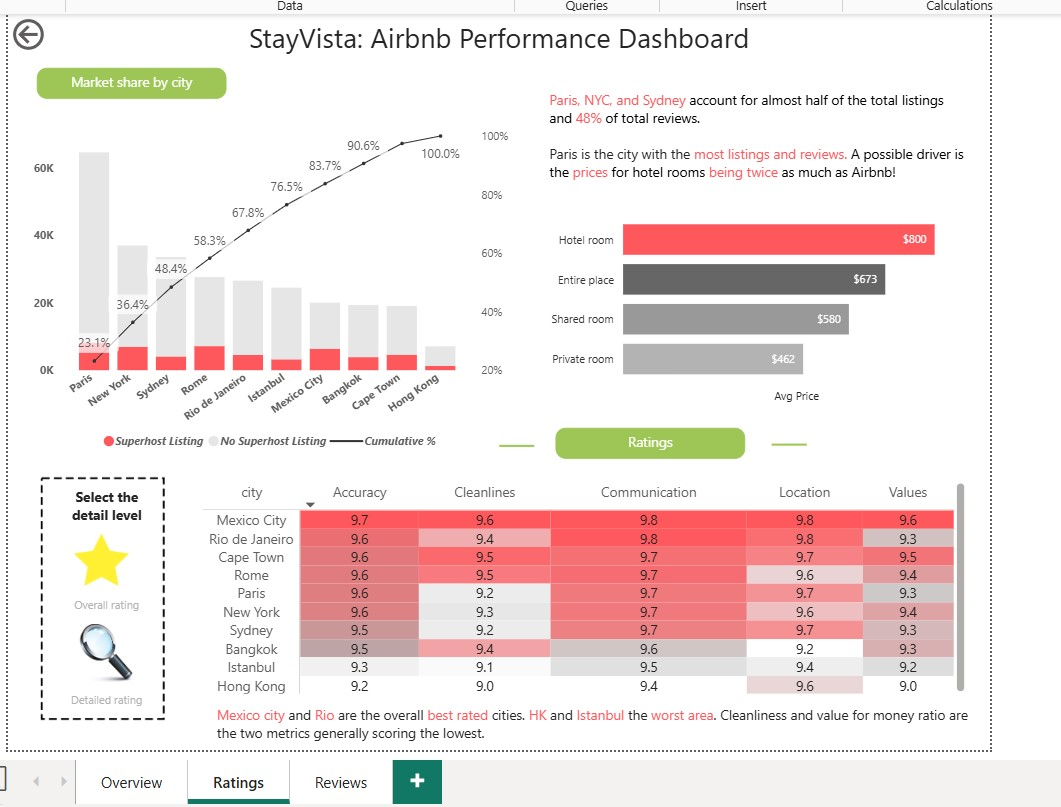

This screenshot's page, from the dashboard's own definition file:
{"tool":"powerbi","page":{"name":"Ratings","canvas":[960,720],"ordinal":1},"visuals":[{"type":"textbox","box":[213.4,0,533.2,52.6],"z":0},{"type":"image","box":[53.8,505,75.8,57.5],"z":0,"group":"g1"},{"type":"image","box":[53.8,596.7,83.2,58.7],"z":0,"group":"g2"},{"type":"textbox","box":[28.1,52.6,185.9,30.6],"z":1000},{"type":"textbox","box":[50.1,562.5,92.9,34.2],"z":1000,"group":"g1"},{"type":"textbox","box":[50.1,655.4,92.9,31.8],"z":1000,"group":"g2"},{"type":"textbox","box":[524.6,69.7,417,128.4],"z":2000},{"type":"lineStackedColumnComboChart","fields":{"Category":["Listings.city"],"Y":["Listings.Superhost Listing","Listings.No Superhost Listing"],"Y2":["Listings.Cumulative %"]},"box":[19.6,103.9,476.9,331.4],"z":3000},{"type":"barChart","fields":{"Category":["Listings.room_type"],"Y":["Listings.Avg Price"]},"box":[520.9,177.3,425.5,207.9],"z":4000},{"type":"pivotTable","fields":{"Rows":["Listings.city"],"Values":["Listings.Accuracy","Listings.Cleanlines","Listings.Communication","Listings.Location","Listings.Values"]},"box":[185.9,453.7,755.7,216.4],"z":6000},{"type":"actionButton","box":[0,0,100,40],"z":7000},{"type":"image","box":[0,423.1,185.9,297.1],"z":8000},{"type":"textbox","box":[50.1,458.6,92.9,46.5],"z":9000},{"type":"group","id":"g1","title":"Group 1","box":[50.1,505,92.9,91.7],"z":10000},{"type":"group","id":"g2","title":"Group 2","box":[50.1,596.7,92.9,90.5],"z":11000},{"type":"textbox","box":[535.6,404.8,185.9,30.6],"z":12000},{"type":"shape","box":[480.6,407.2,34.2,30.6],"z":13000},{"type":"shape","box":[747.2,406,34.2,30.6],"z":14000},{"type":"textbox","box":[199.3,671.3,753.3,48.9],"z":15000}]}

Visuals, with their boxes on the page's 960x720 design canvas (x1, y1, x2, y2). These are canvas units, not pixel positions in the 1061x807 screenshot, which may show the page scaled, cropped or inside an application window:
textbox: x1=213 y1=0 x2=747 y2=53
image: x1=54 y1=505 x2=130 y2=562
image: x1=54 y1=597 x2=137 y2=655
textbox: x1=28 y1=53 x2=214 y2=83
textbox: x1=50 y1=562 x2=143 y2=597
textbox: x1=50 y1=655 x2=143 y2=687
textbox: x1=525 y1=70 x2=942 y2=198
lineStackedColumnComboChart - Listings.city x Listings.Superhost Listing: x1=20 y1=104 x2=496 y2=435
barChart - Listings.room_type x Listings.Avg Price: x1=521 y1=177 x2=946 y2=385
pivotTable - Listings.city x Listings.Accuracy: x1=186 y1=454 x2=942 y2=670
actionButton: x1=0 y1=0 x2=100 y2=40
image: x1=0 y1=423 x2=186 y2=720
textbox: x1=50 y1=459 x2=143 y2=505
"Group 1" group: x1=50 y1=505 x2=143 y2=597
"Group 2" group: x1=50 y1=597 x2=143 y2=687
textbox: x1=536 y1=405 x2=722 y2=435
shape: x1=481 y1=407 x2=515 y2=438
shape: x1=747 y1=406 x2=781 y2=437
textbox: x1=199 y1=671 x2=953 y2=720
